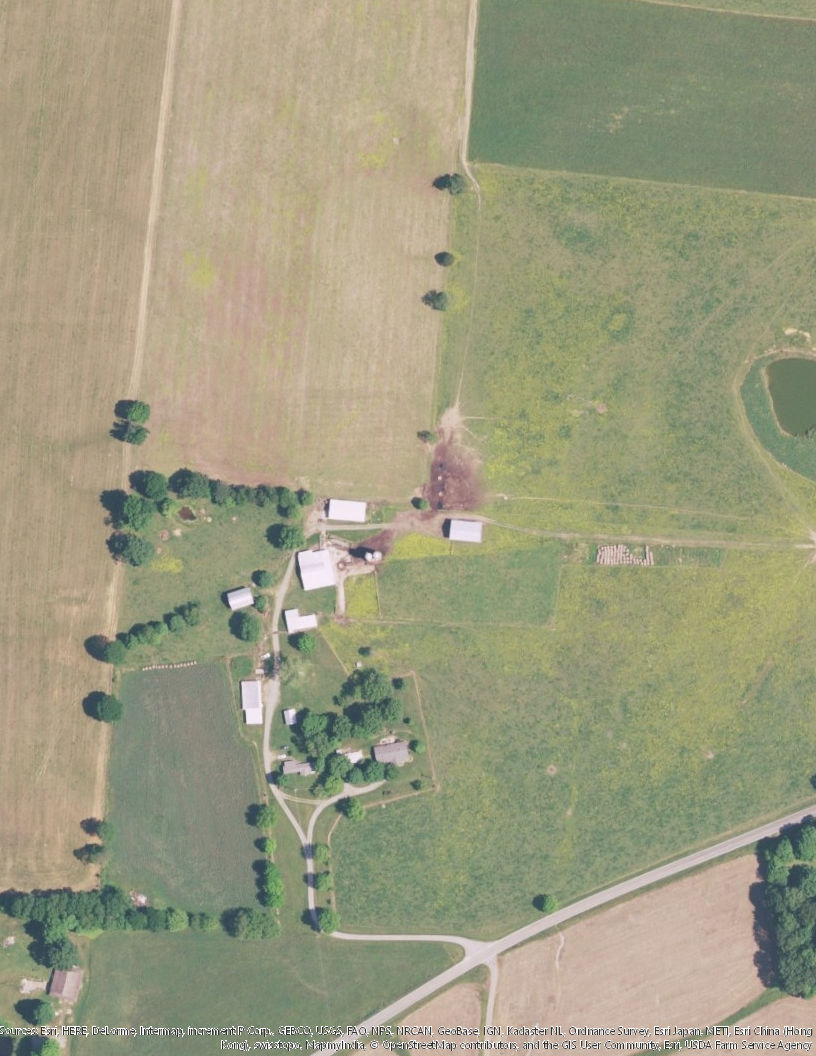cafo: (293, 547, 343, 593), (326, 498, 370, 523), (448, 519, 484, 547)
